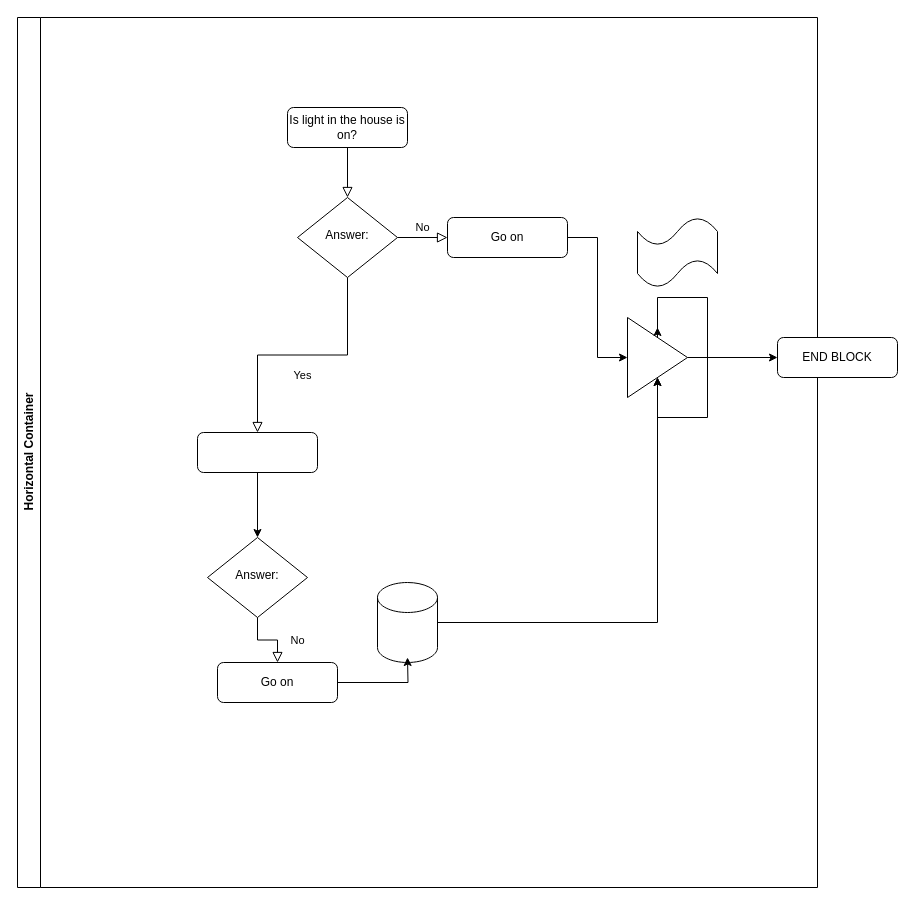
The diagram is 915 pixels wide and 905 high, and some of its shapes have lost their labels. The shapes that lost their labels are listed below. From the top down, each one's centre as x and y in pixels, then its label:
At (677,252): "Loop".
At (657,357): "Przełącznik".
At (257,452): "Switch in ur reachable area?".
At (407,622): "Używasz dotyku".
